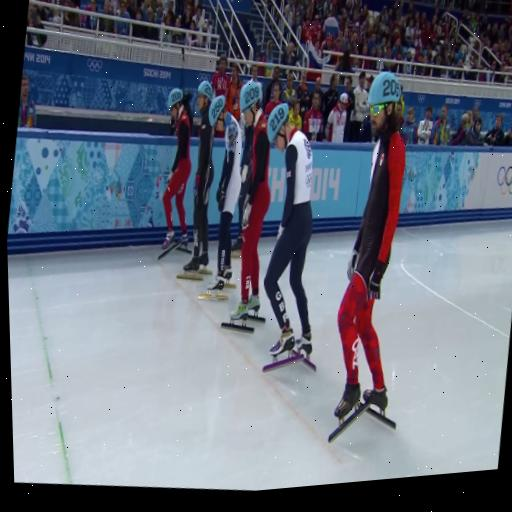Skater: (329, 72, 405, 441), (264, 104, 313, 370), (222, 82, 270, 333), (199, 96, 242, 300), (184, 81, 214, 279), (161, 88, 191, 257), (232, 124, 254, 258)
